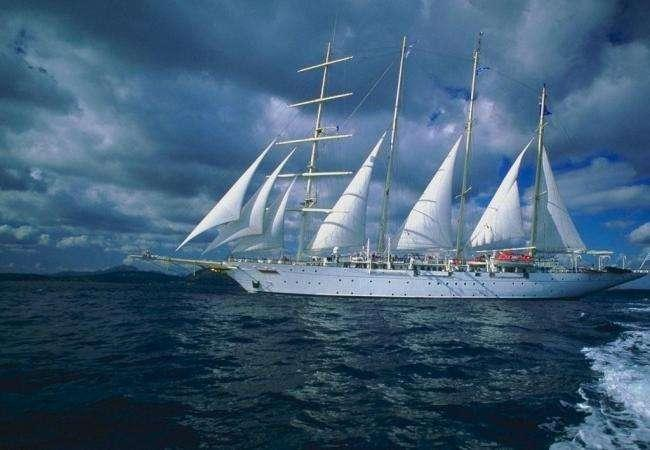fanchuan: (140, 24, 650, 299)
